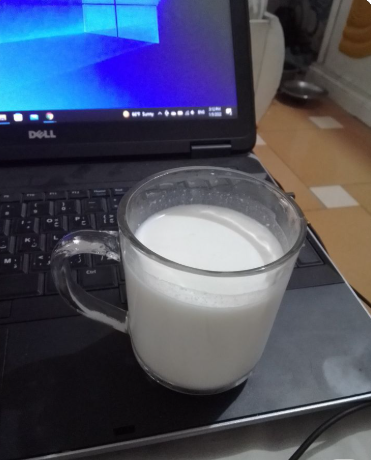produk_susu: (130, 183, 294, 393)
